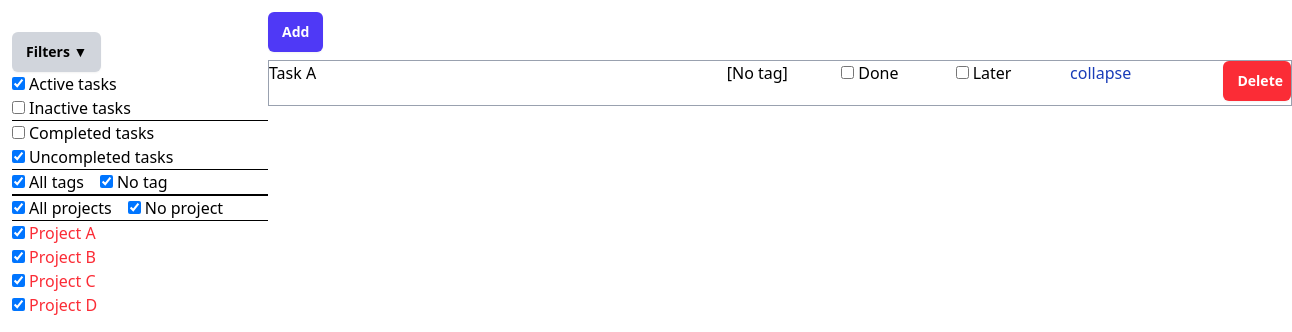
it: TaskView › makes project dropdown list in item view sorted by project name
Click the element with test id "project" at x=666, y=81, box [612,61,719,101]
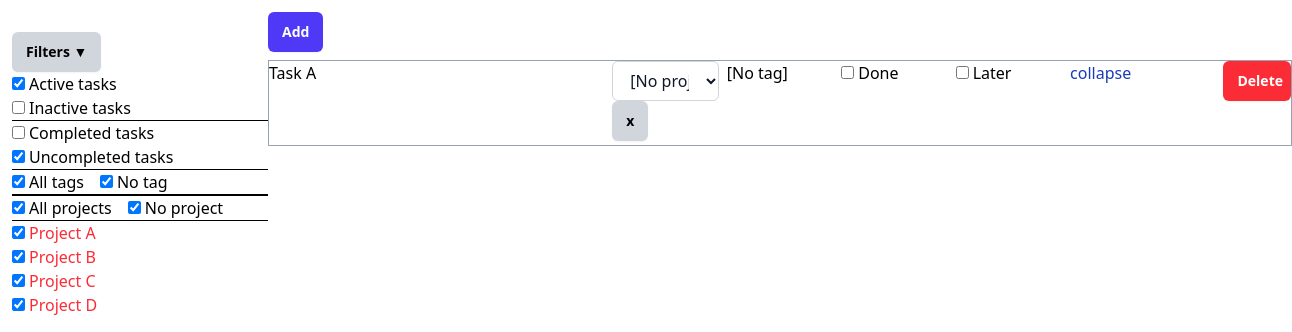
expect the dropdown with test id "edit-project" is shown: met, box [612,61,719,101]
